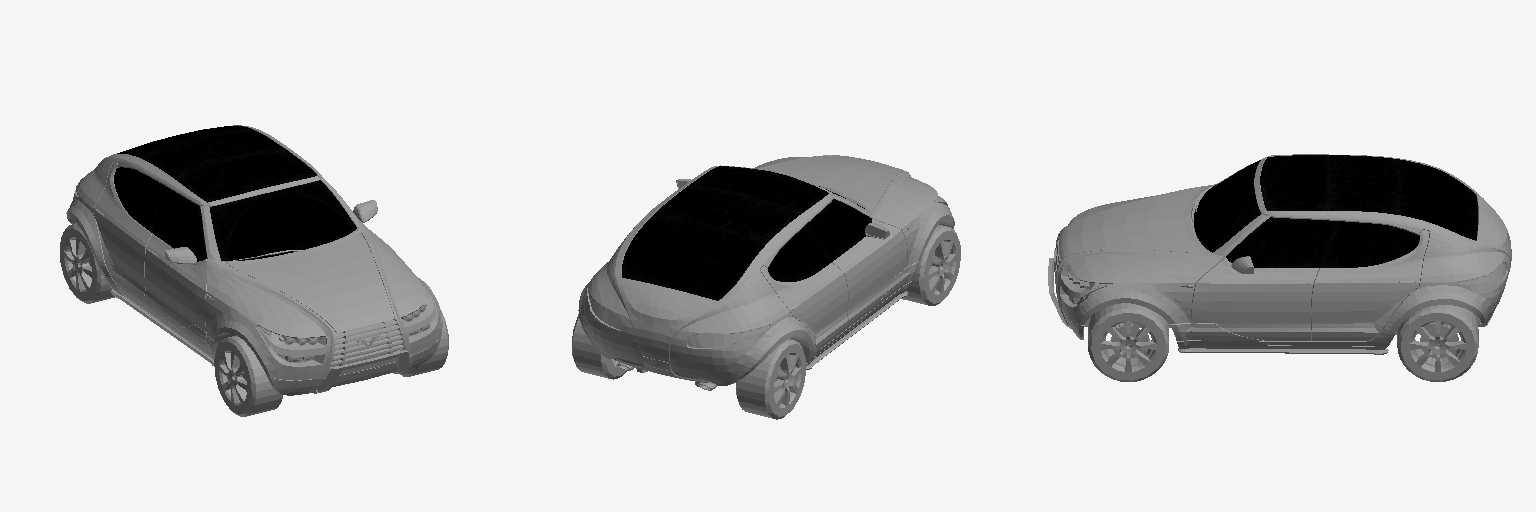
3 views of the same model, side by side, from view 1: azimuth 30°, elevation 25°; view 2: azimuth 150°, elevation 25°; view 3: azimuth 270°, elevation 25° (orthographic).
Bounding box in the file's own units: 4.87 × 3.52 × 9.31.
3 materials, 1 textured.